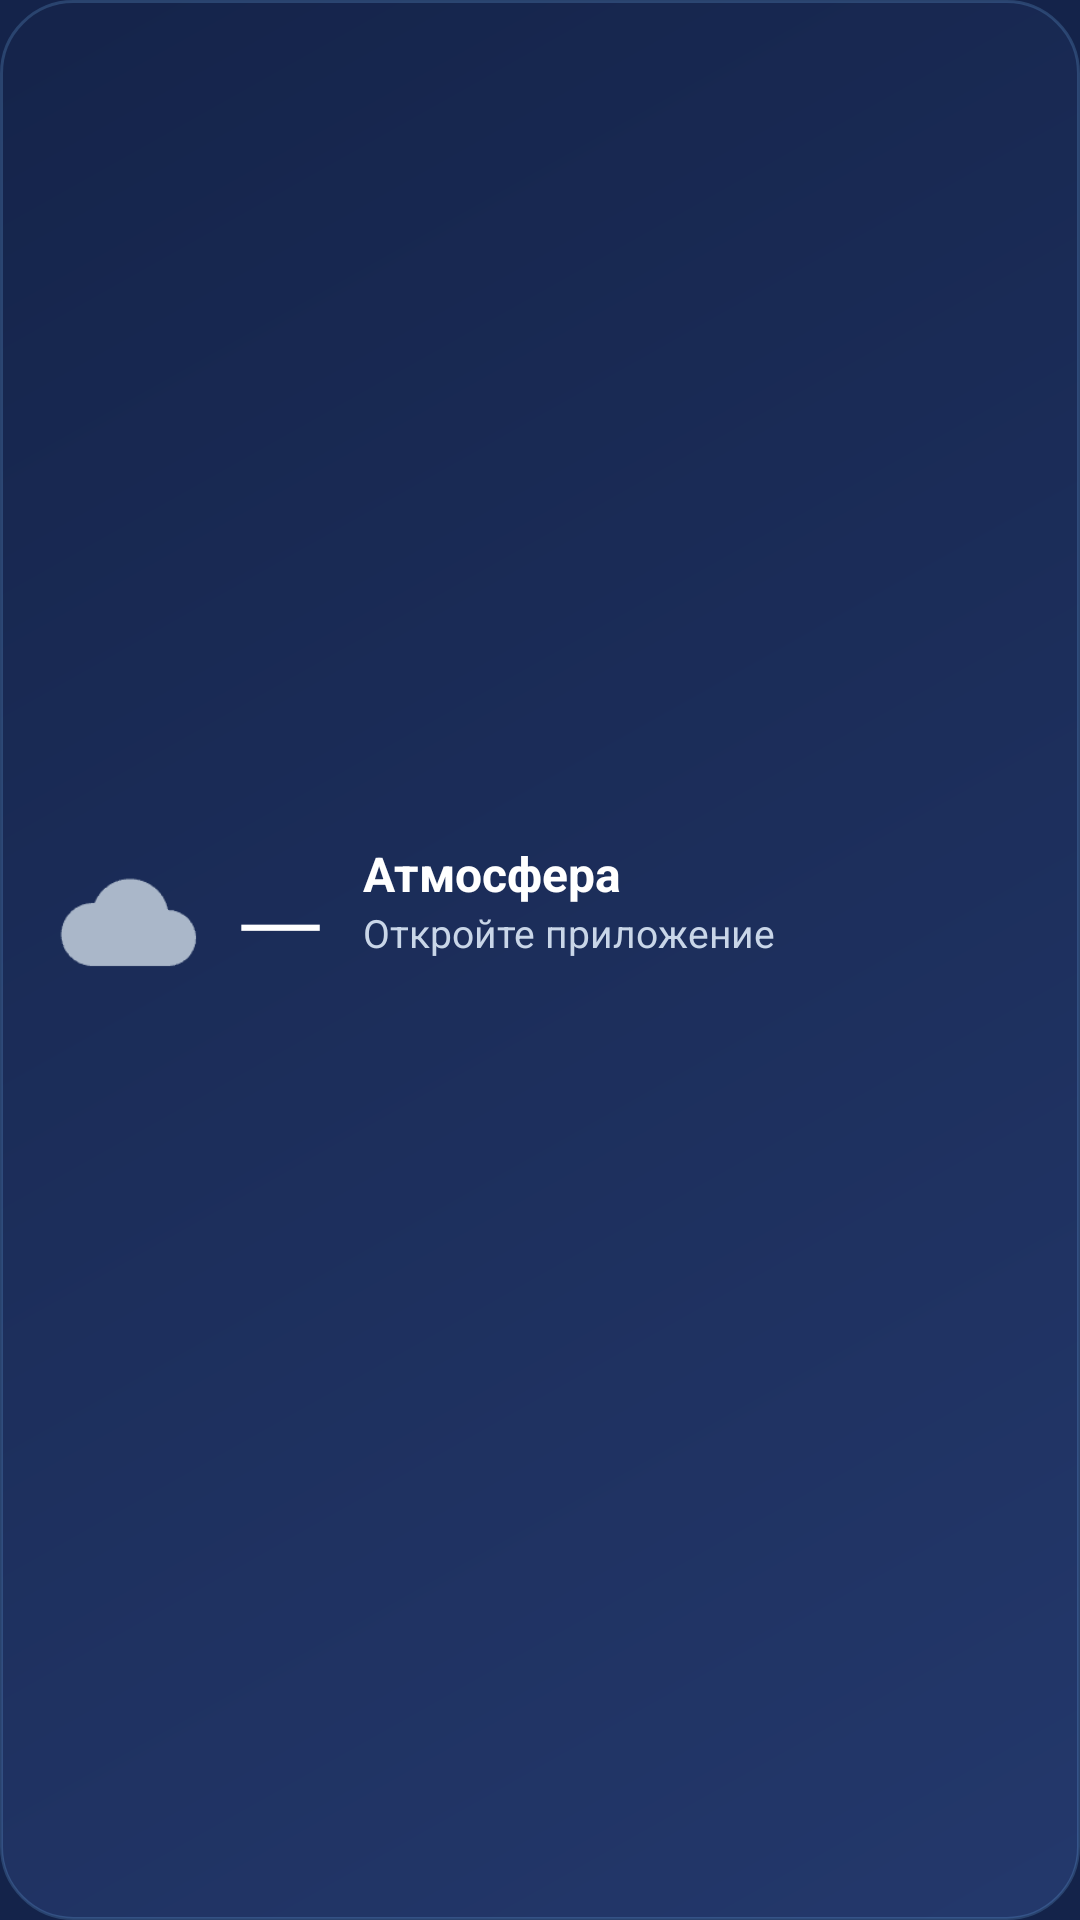

Locate icon controls on the screen. Image size 1080px×1920px, boxes as (x1, y1, x2, y2).
Погода: (60, 878, 196, 966)
